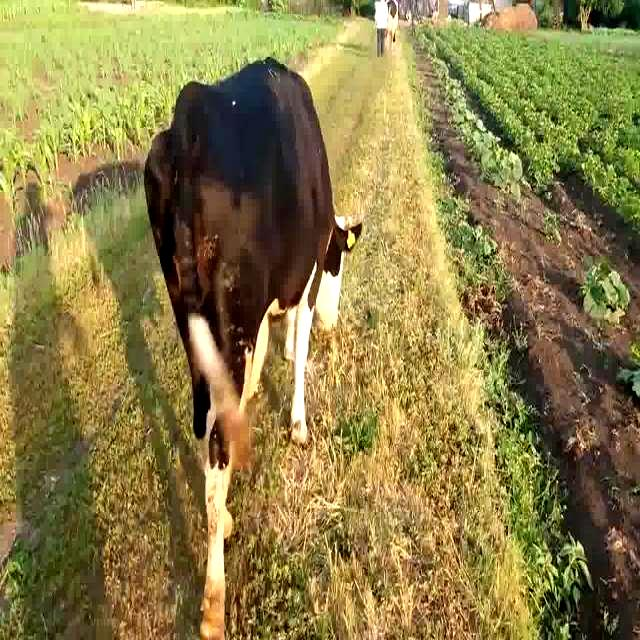COW: (145, 59, 359, 639)
